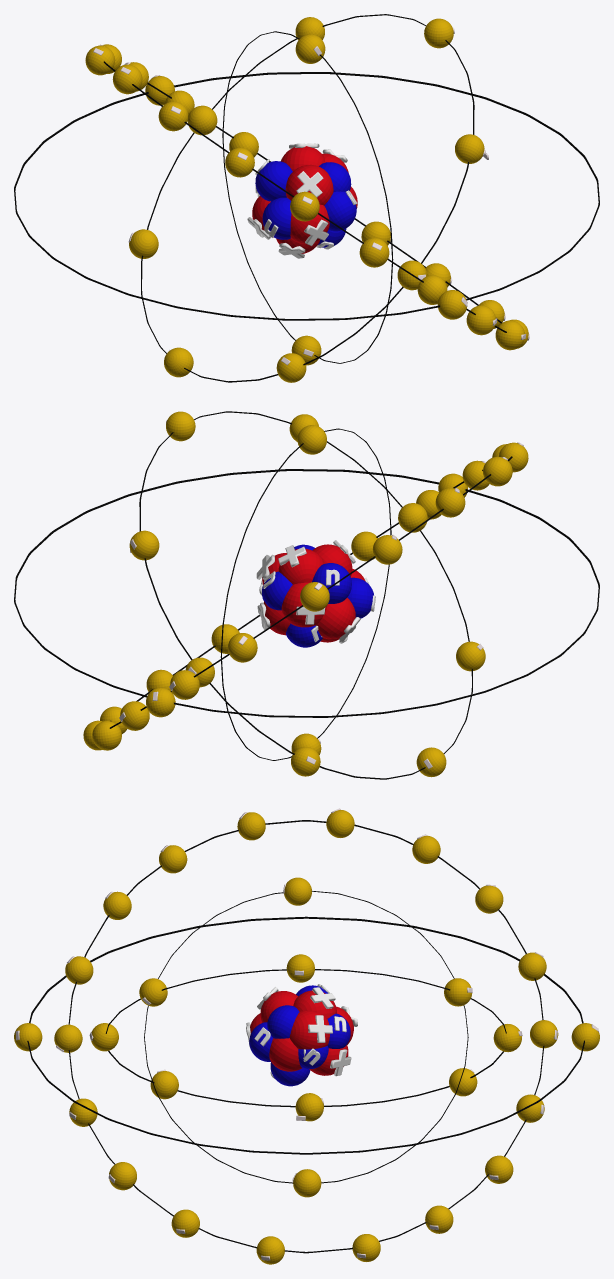
3 views of the same model, one above another, from view 1: azimuth 30°, elevation 25°; view 2: azimuth 150°, elevation 25°; view 3: azimuth 270°, elevation 25° (orthographic). The views are drawn at different scales.
Parts seen in each view (by area): view 1: Circle.003, Circle.001, Circle, Sphere.015, Sphere.014, Sphere.012, Sphere.018, Circle.002, Sphere.007, Sphere.026, Sphere.016, Sphere.013 (+20 smaller); view 2: Circle.003, Circle.001, Circle, Sphere.011, Sphere.007, Sphere.015, Circle.002, Sphere.005, Sphere.018, Sphere.027, Sphere.026, Sphere.003 (+21 smaller); view 3: Circle.003, Circle.002, Circle.001, Circle, Sphere.030, Sphere, Sphere.024, Sphere.002, Sphere.035, Sphere.019, Sphere.034, Sphere.003 (+27 smaller).
Part boxes in pixels (box(x1,y1,x2,y2)): Circle.003: box(14, 72, 599, 320); Circle.001: box(141, 14, 474, 382); Circle: box(222, 31, 393, 363); Sphere.015: box(255, 161, 292, 201); Sphere.014: box(285, 164, 333, 205); Sphere.012: box(324, 191, 356, 231); Sphere.018: box(262, 197, 291, 239); Circle.002: box(103, 61, 506, 332); Sphere.007: box(281, 146, 325, 171); Sphere.026: box(424, 18, 453, 48); Sphere.016: box(164, 347, 193, 377); Sphere.013: box(455, 134, 484, 163); Circle.003: box(14, 469, 599, 717); Circle.001: box(139, 411, 472, 779); Circle: box(220, 428, 391, 760); Sphere.011: box(315, 597, 355, 639); Sphere.007: box(278, 548, 324, 584); Sphere.015: box(312, 563, 351, 603); Circle.002: box(109, 456, 512, 728); Sphere.005: box(281, 582, 327, 627); Sphere.018: box(347, 577, 373, 618); Sphere.027: box(262, 571, 292, 610); Sphere.026: box(166, 411, 195, 441); Sphere.003: box(297, 425, 326, 454); Circle.003: box(27, 916, 584, 1154); Circle.002: box(68, 820, 544, 1253); Circle.001: box(105, 969, 506, 1107); Circle: box(144, 891, 468, 1183); Sphere.030: box(289, 1011, 329, 1049); Sphere: box(269, 1038, 301, 1071); Sphere.024: box(267, 1005, 299, 1038); Sphere.002: box(293, 1169, 321, 1197); Sphere.035: box(475, 885, 503, 913); Sphere.019: box(449, 1068, 477, 1096); Sphere.034: box(518, 952, 546, 980); Sphere.003: box(284, 877, 311, 905).
Size of the model in its own units: 99.42 by 62.06 by 104.
